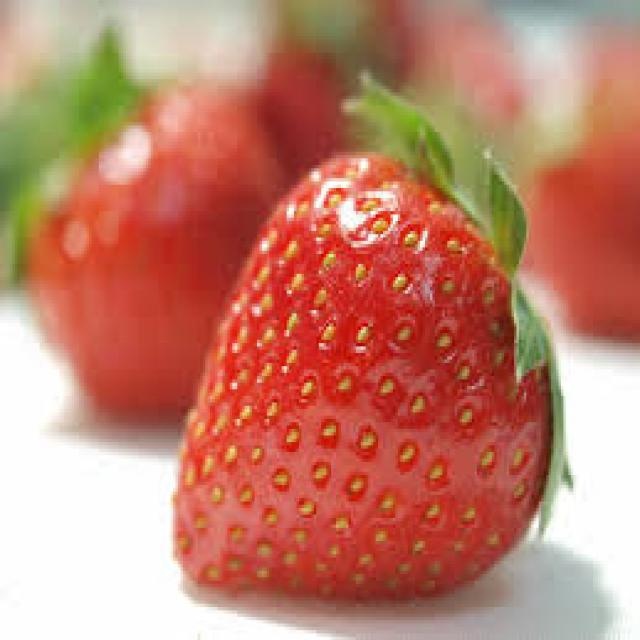organic waste: (168, 69, 563, 604), (20, 66, 336, 432), (522, 89, 638, 340), (264, 46, 368, 165)
